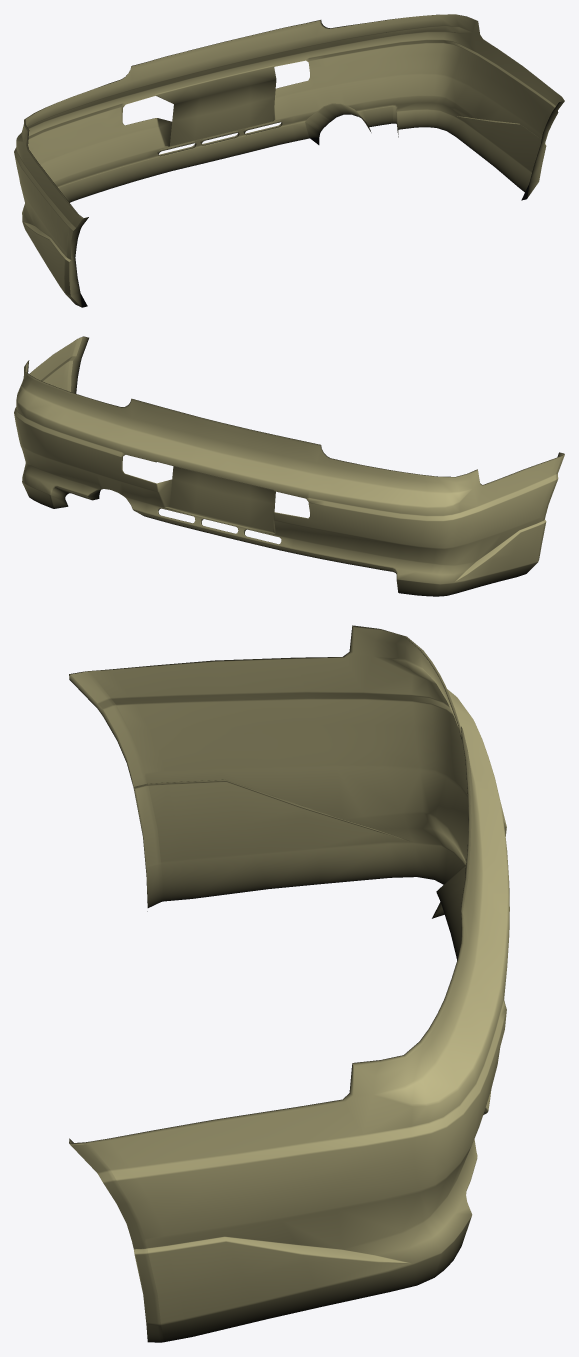
The model's file is R34_BB02_Duco.fbx.
3 views of the same model, one above another, from view 1: azimuth 30°, elevation 25°; view 2: azimuth 150°, elevation 25°; view 3: azimuth 270°, elevation 25° (orthographic). The views are drawn at different scales.
Visible parts, largest first — view 1: R34_BB02_Duco; view 2: R34_BB02_Duco; view 3: R34_BB02_Duco.
Boxes of the visible parts, x1,y1,x2,y2 form: R34_BB02_Duco: [14, 14, 564, 307]; R34_BB02_Duco: [14, 336, 564, 596]; R34_BB02_Duco: [69, 625, 509, 1342].
Size of the model in its own units: 179 by 53.8 by 70.08.
